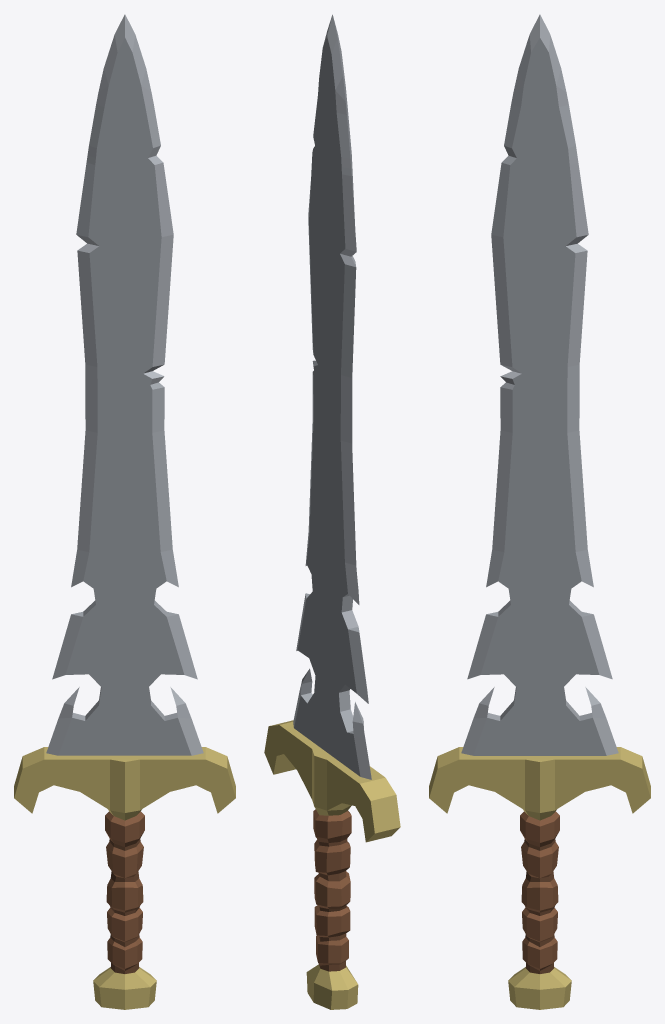
Rendered from arming_sword.glb.
3 renders of one model, left to right at view 1: azimuth 90°, elevation 25°; view 2: azimuth 210°, elevation 25°; view 3: azimuth 270°, elevation 25°, orthographic.
Visible parts, largest first — view 1: arming_sword; view 2: arming_sword; view 3: arming_sword.
Boxes of the visible parts, <box> form: arming_sword: <box>14,14,235,1009</box>; arming_sword: <box>264,14,400,1009</box>; arming_sword: <box>429,14,650,1009</box>.
Bounding box in the file's own units: 0.038 × 0.95 × 0.1934.
